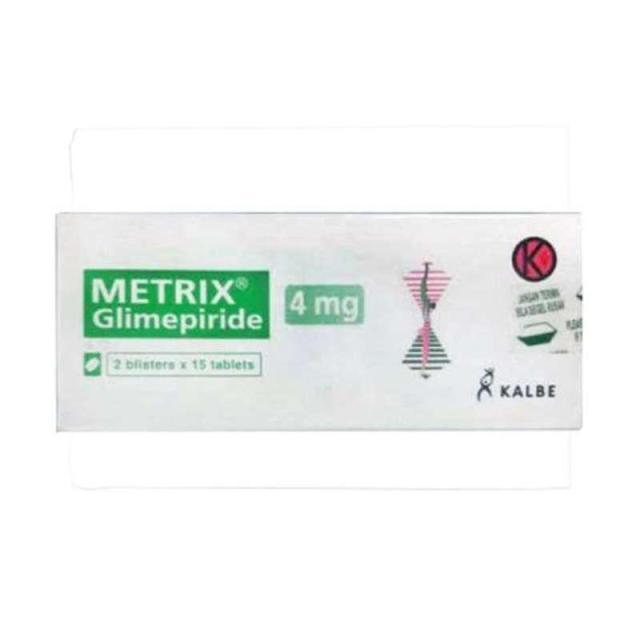drug-name: (89, 278, 246, 306)
